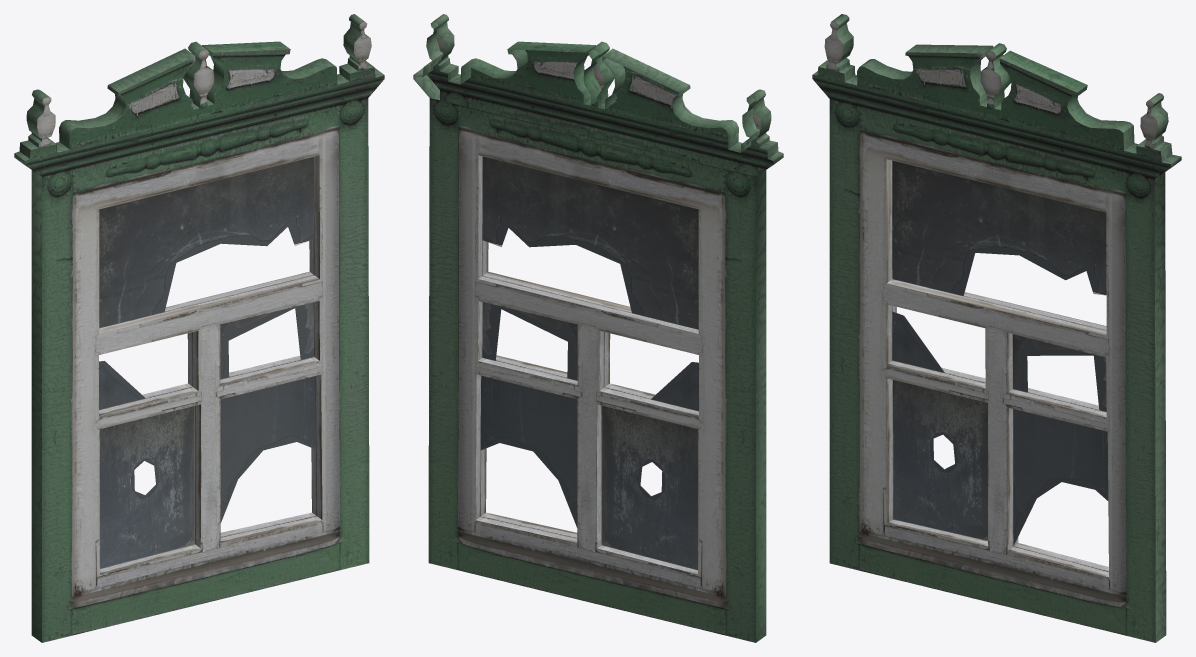
Rendered from Windows_01.fbx.
The picture shows the model from 3 angles, left to right: view 1: azimuth 30°, elevation 25°; view 2: azimuth 150°, elevation 25°; view 3: azimuth 330°, elevation 25°; orthographic projection.
Parts seen in each view (by area): view 1: Windows_01, Windows_01glass (×5); view 2: Windows_01, Windows_01glass (×5); view 3: Windows_01, Windows_01glass (×5).
Boxes of the visible parts, x1=… form: Windows_01: x1=14, y1=14, x2=384, y2=642; Windows_01glass (×5): x1=99, y1=157, x2=315, y2=568; Windows_01: x1=413, y1=14, x2=783, y2=642; Windows_01glass (×5): x1=480, y1=156, x2=698, y2=569; Windows_01: x1=812, y1=14, x2=1181, y2=642; Windows_01glass (×5): x1=892, y1=160, x2=1108, y2=545.
Bounding box in the file's own units: 134 × 6.78 × 197.
2 materials, 2 textured.
